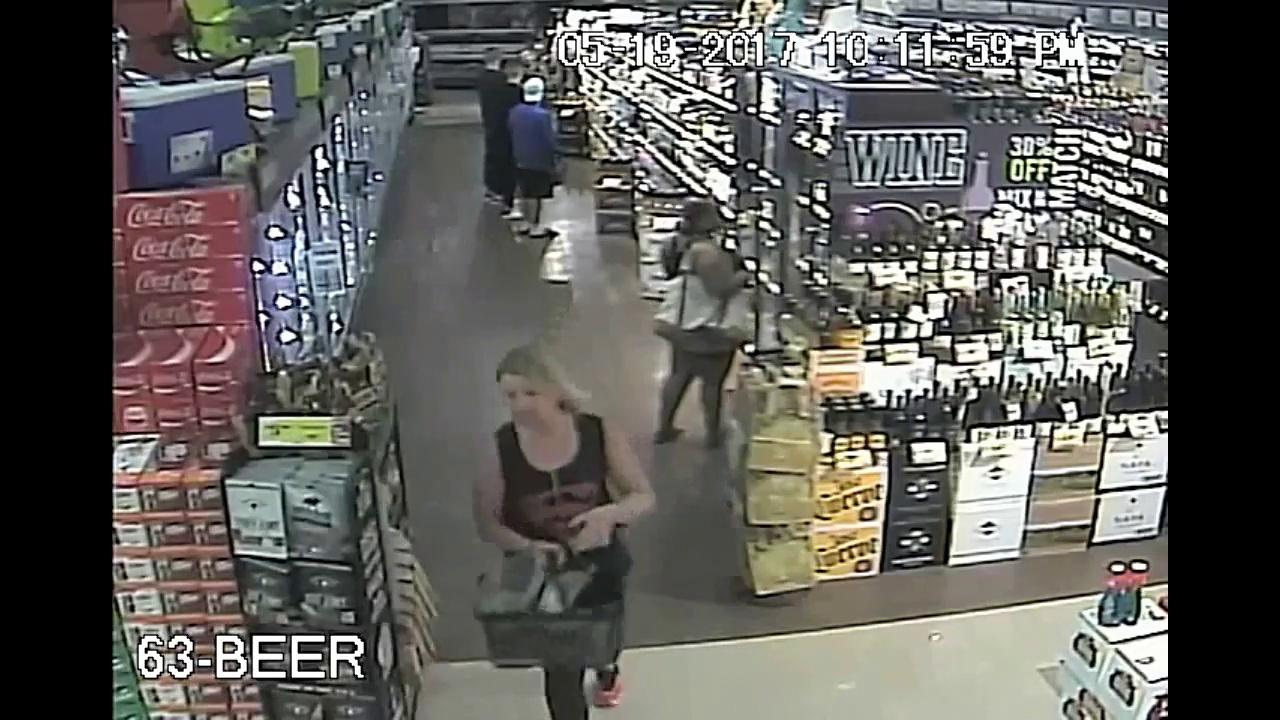3: (400, 321, 687, 720), (600, 183, 755, 395), (472, 65, 580, 223)
5: (484, 567, 612, 665)
persone: (648, 262, 742, 354)
